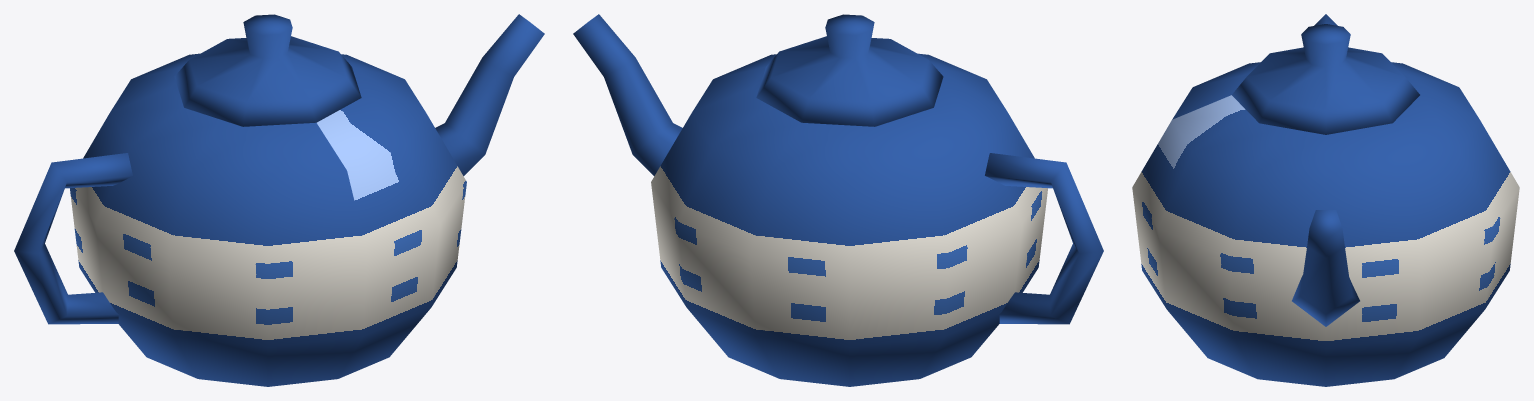
The model's file is drinks-teapot.glb.
The picture shows the model from 3 angles, left to right: view 1: azimuth 30°, elevation 25°; view 2: azimuth 150°, elevation 25°; view 3: azimuth 270°, elevation 25°; orthographic projection. The views are drawn at different scales.
Parts seen in each view (by area): view 1: drinks.teapot; view 2: drinks.teapot; view 3: drinks.teapot.
Boxes of the visible parts, box(x1,y1,x2,y2) form: drinks.teapot: box(14, 14, 544, 386); drinks.teapot: box(573, 14, 1103, 386); drinks.teapot: box(1132, 14, 1519, 386).
Bounding box in the file's own units: 1.93 × 1.06 × 1.26.
Materials: 2 (1 with a texture image).
